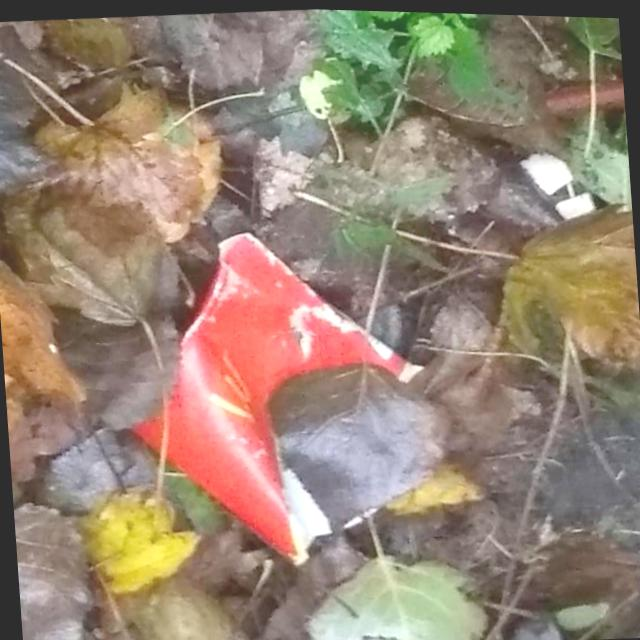Paper: (110, 215, 440, 582)
